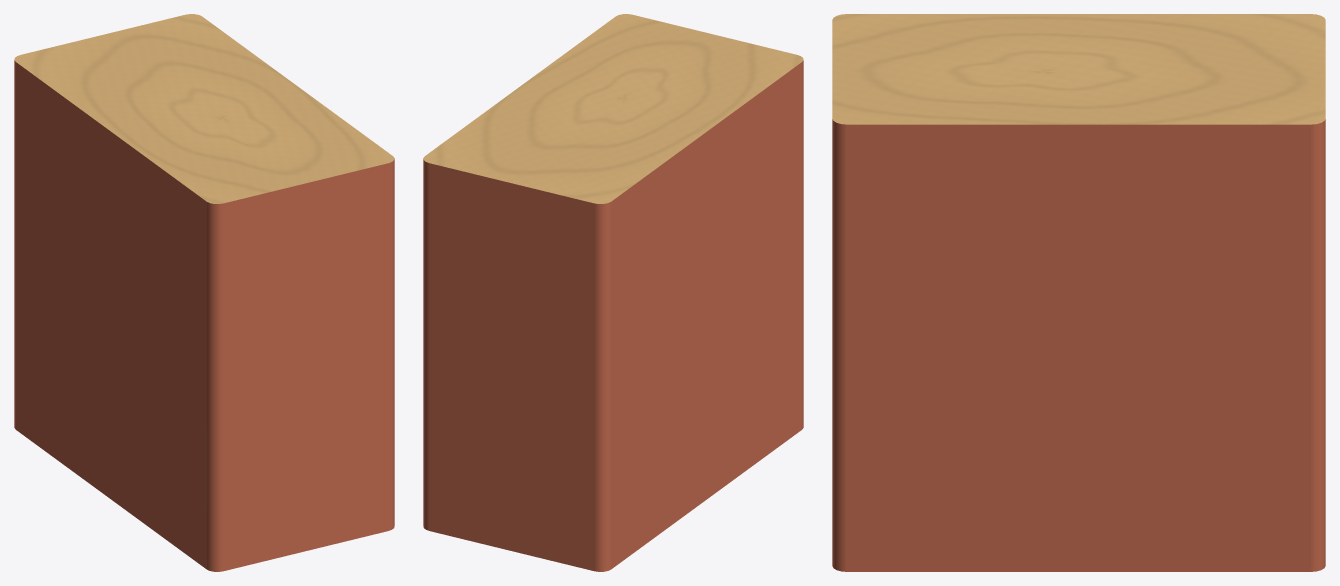
File: play-orange-block-coral.glb
3 renders of one model, left to right at view 1: azimuth 30°, elevation 25°; view 2: azimuth 150°, elevation 25°; view 3: azimuth 270°, elevation 25°, orthographic. The views are drawn at different scales.
Parts seen in each view (by area): view 1: Block_Painted_Body, Block_Paint_Front, Block_Wood_Bottom; view 2: Block_Painted_Body, Block_Paint_Back, Block_Wood_Bottom; view 3: Block_Paint_Left, Block_Wood_Bottom, Block_Paint_Front, Block_Paint_Back.
Part boxes in pixels (<box>): Block_Painted_Body: <box>14,60,213,571</box>; Block_Paint_Front: <box>214,160,394,571</box>; Block_Wood_Bottom: <box>14,14,394,203</box>; Block_Painted_Body: <box>604,60,803,571</box>; Block_Paint_Back: <box>423,160,603,571</box>; Block_Wood_Bottom: <box>423,14,803,203</box>; Block_Paint_Left: <box>836,123,1321,571</box>; Block_Wood_Bottom: <box>832,14,1325,124</box>; Block_Paint_Front: <box>832,119,836,569</box>; Block_Paint_Back: <box>1321,119,1325,569</box>.
Bounding box in the file's own units: 0.07 × 0.132 × 0.132.
Materials: 2 (1 with a texture image).
